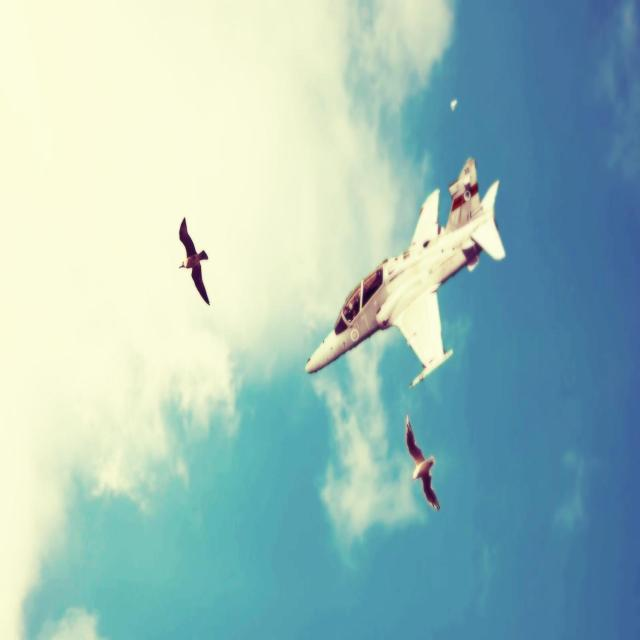airplane: (304, 155, 506, 389)
